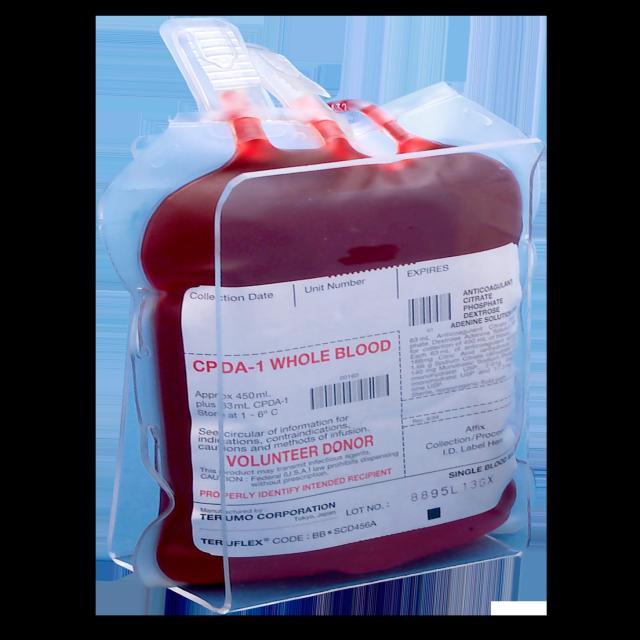B3: (85, 56, 568, 611)
